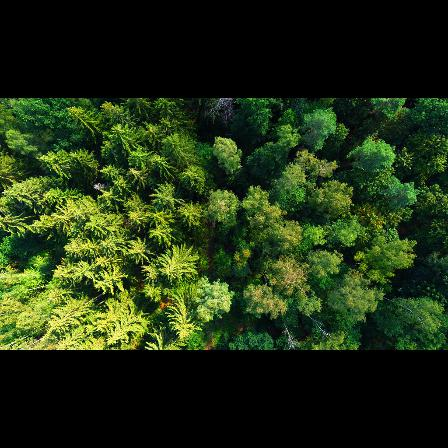Dead: (203, 98, 237, 128), (306, 312, 330, 339), (281, 321, 296, 350), (91, 182, 107, 193)
